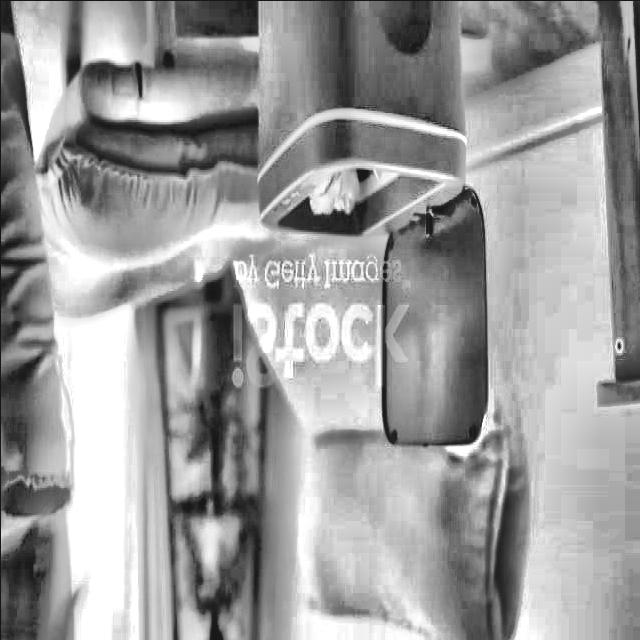Dustbin: (250, 1, 486, 232)
Empty: (275, 160, 453, 230)
